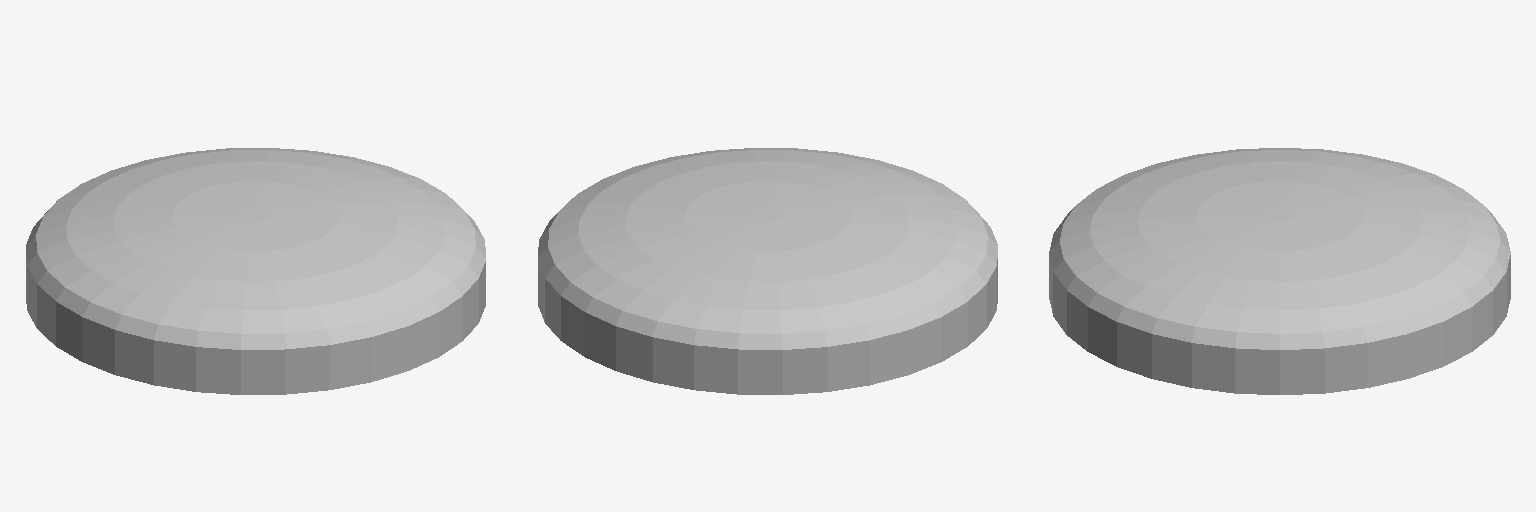
The model's file is CakeSweet.obj.
3 renders of one model, left to right at view 1: azimuth 30°, elevation 25°; view 2: azimuth 150°, elevation 25°; view 3: azimuth 270°, elevation 25°, orthographic.
Parts seen in each view (by area): view 1: Cylinder; view 2: Cylinder; view 3: Cylinder.
Part boxes in pixels (left/top/right/bottom): Cylinder: left=26, top=148, right=485, bottom=394; Cylinder: left=538, top=148, right=997, bottom=394; Cylinder: left=1049, top=148, right=1510, bottom=394.
Size of the model in its own units: 2 by 0.4 by 2.